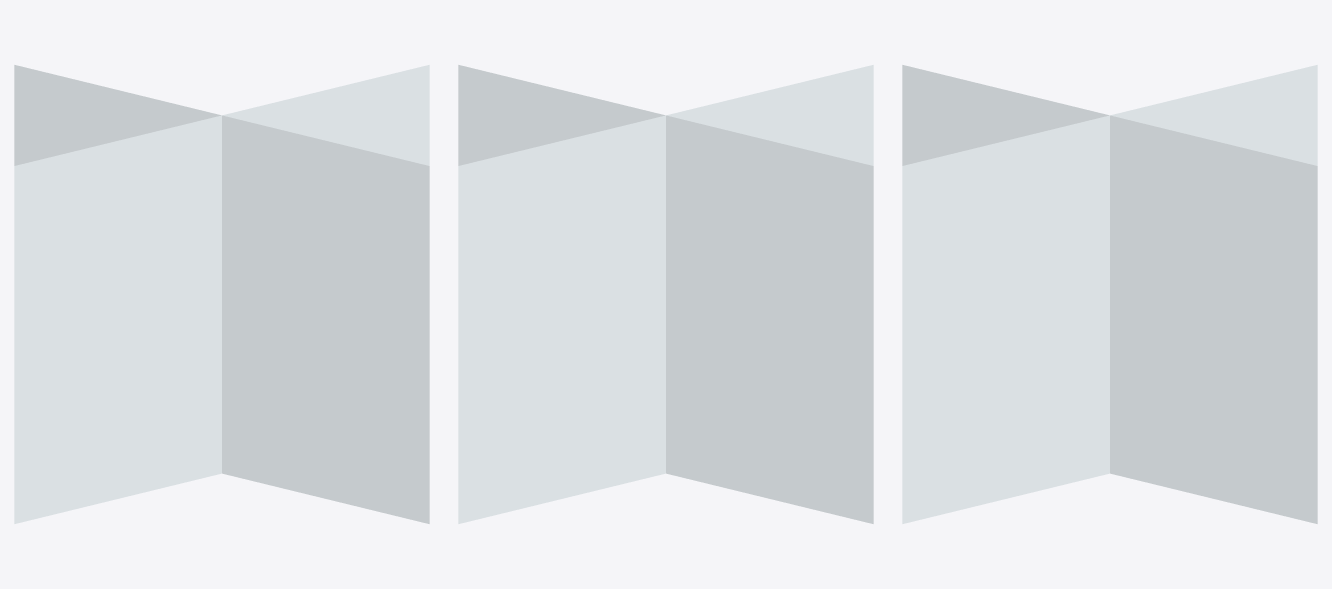
File: snow-powder.glb
3 views of the same model, side by side, from view 1: azimuth 30°, elevation 25°; view 2: azimuth 150°, elevation 25°; view 3: azimuth 270°, elevation 25° (orthographic).
Visible parts, largest first — view 1: powder_frame_07; view 2: powder_frame_07; view 3: powder_frame_07.
Part boxes in pixels (x1,y1,x2,y2): powder_frame_07: (14,65,429,523); powder_frame_07: (458,65,873,523); powder_frame_07: (902,65,1317,523).
Size of what is drawn, in the model's own units: 1.7 by 1.4 by 1.47.
1 material, 1 textured.
